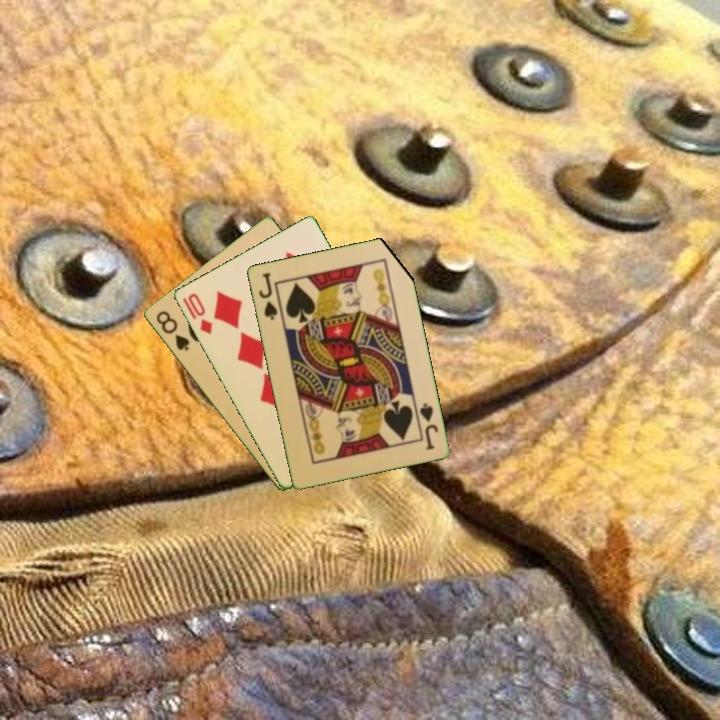10d: (184, 289, 215, 337)
8s: (152, 307, 192, 354)
Js: (255, 269, 280, 322), (416, 399, 441, 452)
